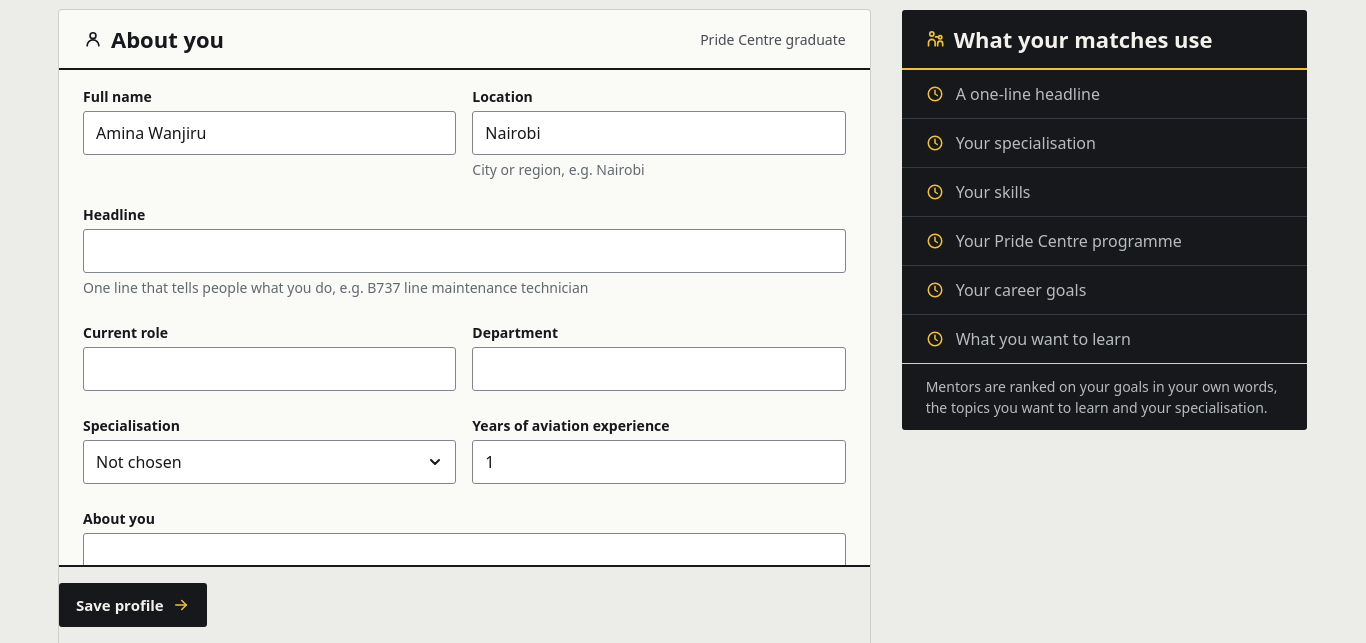
Profile › saves the mentee profile with the chosen topics
Type "Load control trainee" into the field labelled "Headline" at [464, 251], box 83,229 -> 846,273
(page scrolled)
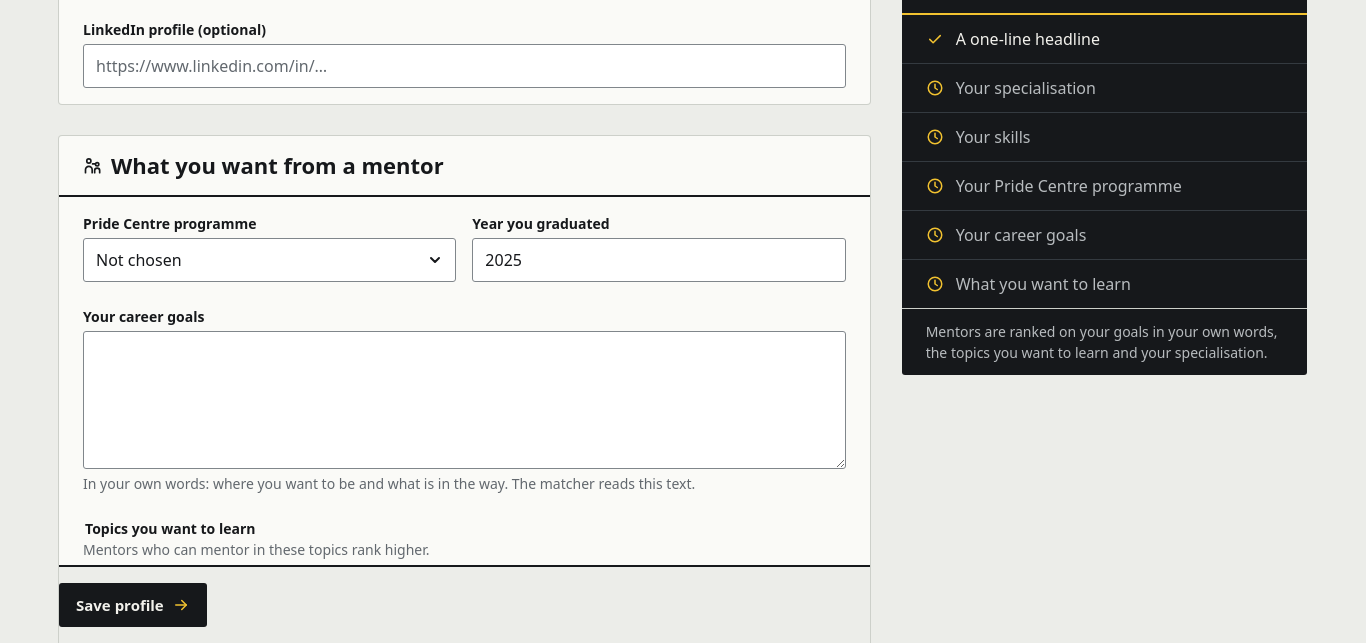
Select "Certificate in Weight and Balance" in the dropdown labelled "Pride Centre programme" at [270, 260], box 83,238 -> 456,282
(page scrolled)
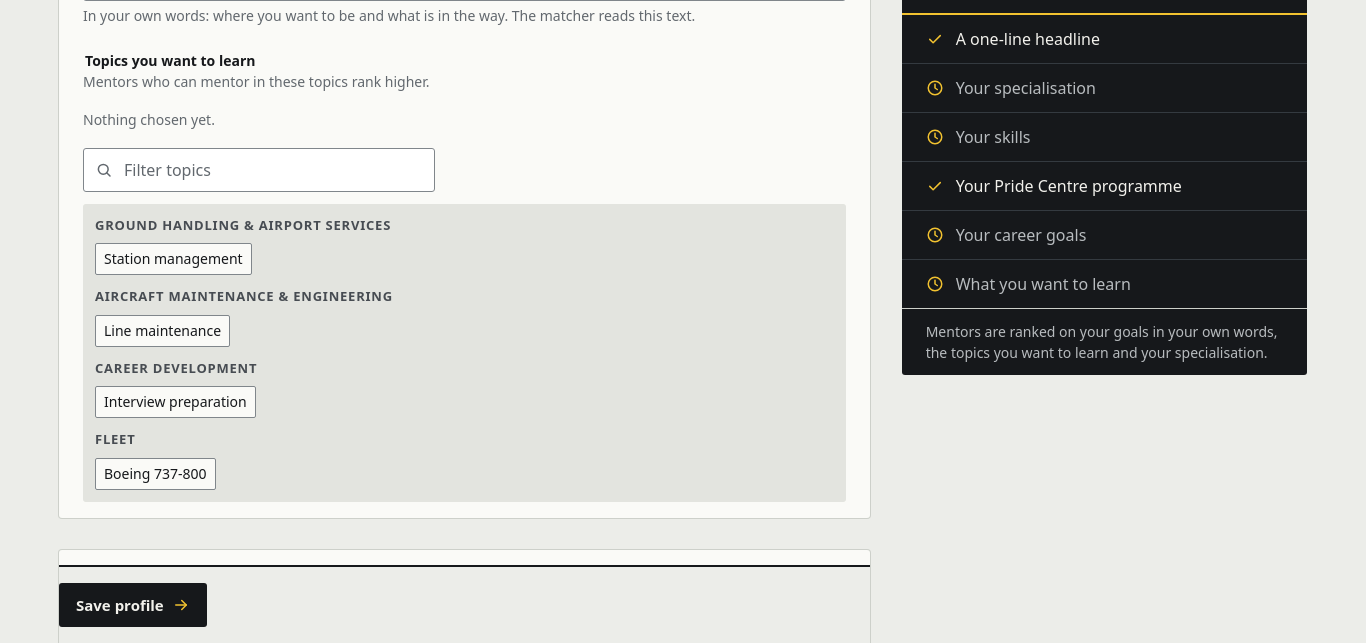
Click the button "Station management" at [173, 259], box 95,243 -> 252,275
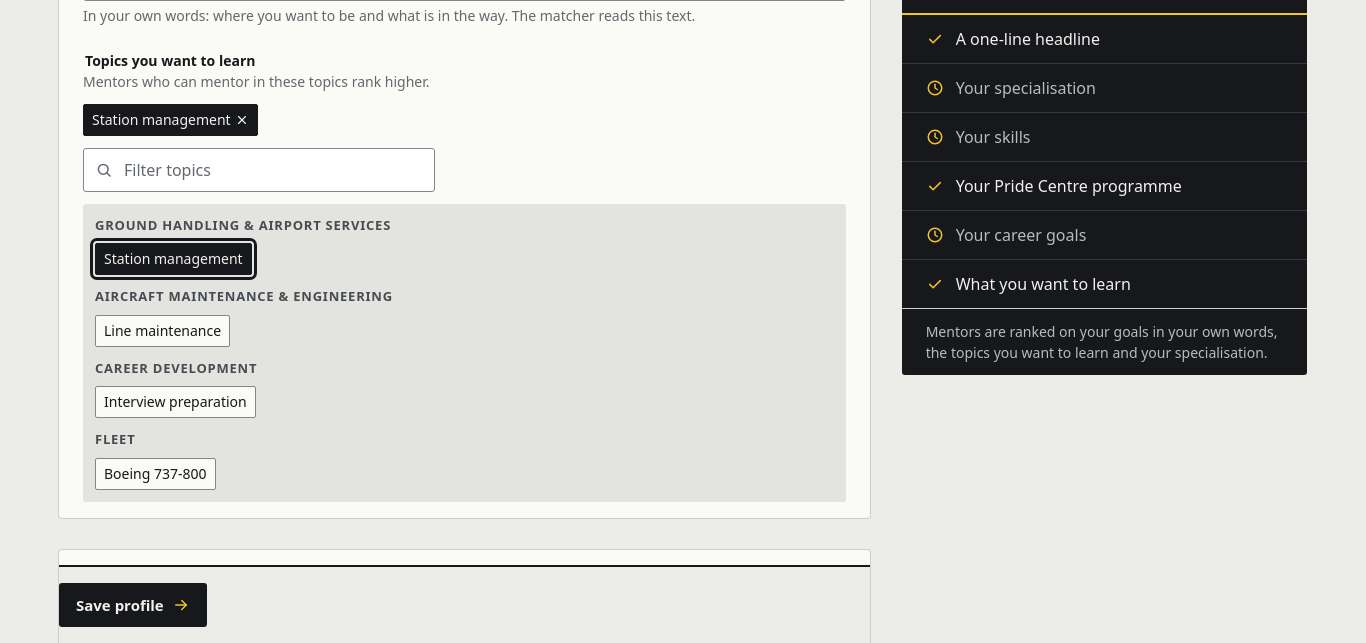
Click the button "Save profile" at [133, 605], box 59,583 -> 207,627
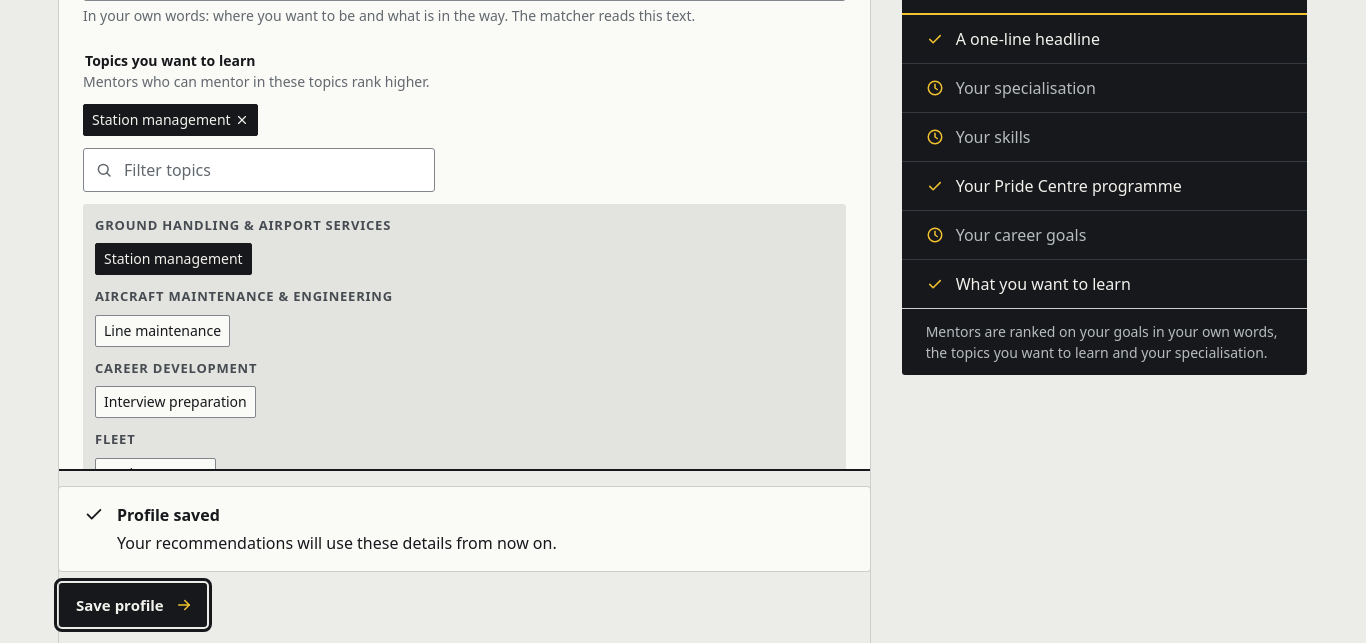
Result: the text "Profile saved" is shown at 117,504 -> 220,526
